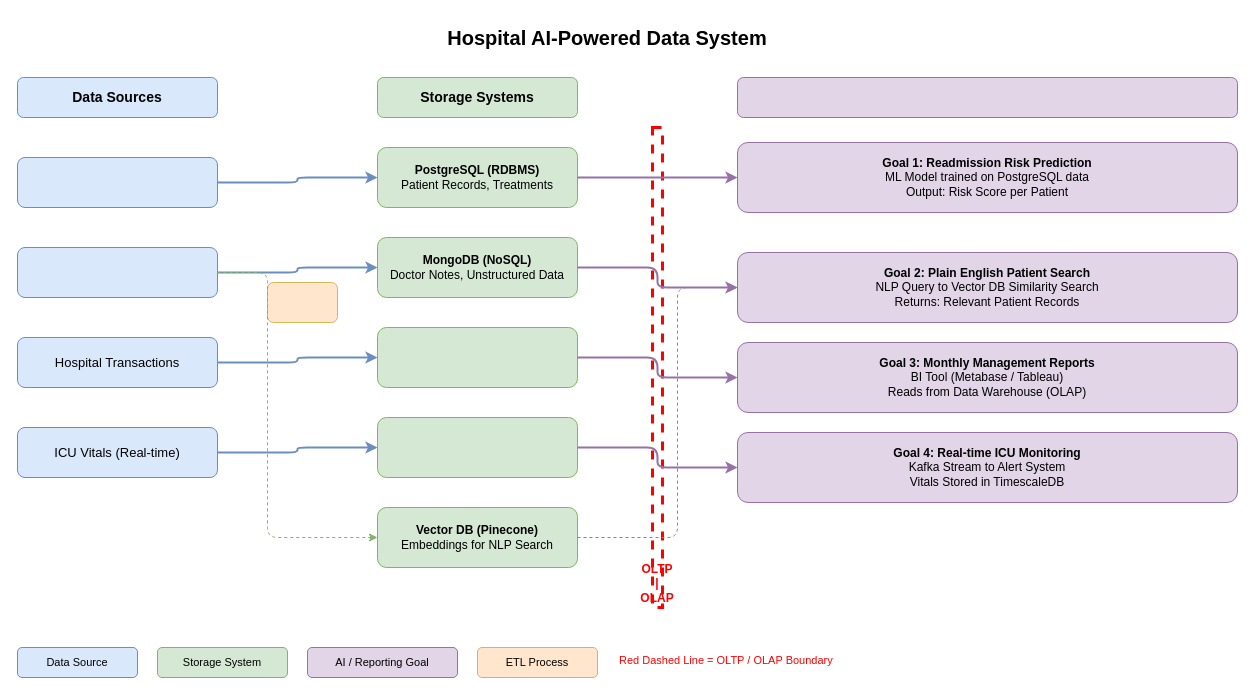
Some shapes in this 1255 by 695 pixel diagram are drawn without their labels. The box of each missing label's shape, as (x1, y1, x2, y2) in pixels:
AI Model / Reporting Layer: (736, 76, 1238, 118)
Data Warehouse Monthly Reports (OLAP): (376, 326, 578, 388)
Doctor Notes / Queries: (16, 246, 218, 298)
ETL: (266, 282, 338, 322)
Kafka + TimescaleDB Real-time ICU Vitals Stream: (376, 416, 578, 478)
Patient Records (EHR): (16, 156, 218, 208)
